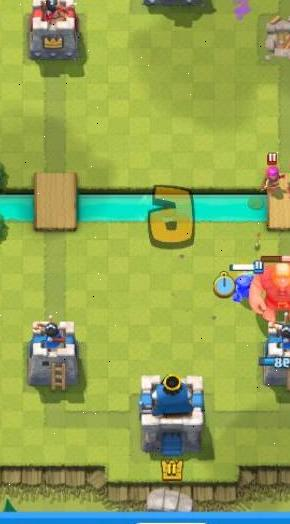enemy_archers: (259, 153, 285, 191), (285, 159, 290, 195)
enemy_giant: (249, 254, 290, 325)
player_mini_pekka: (225, 263, 260, 305)
